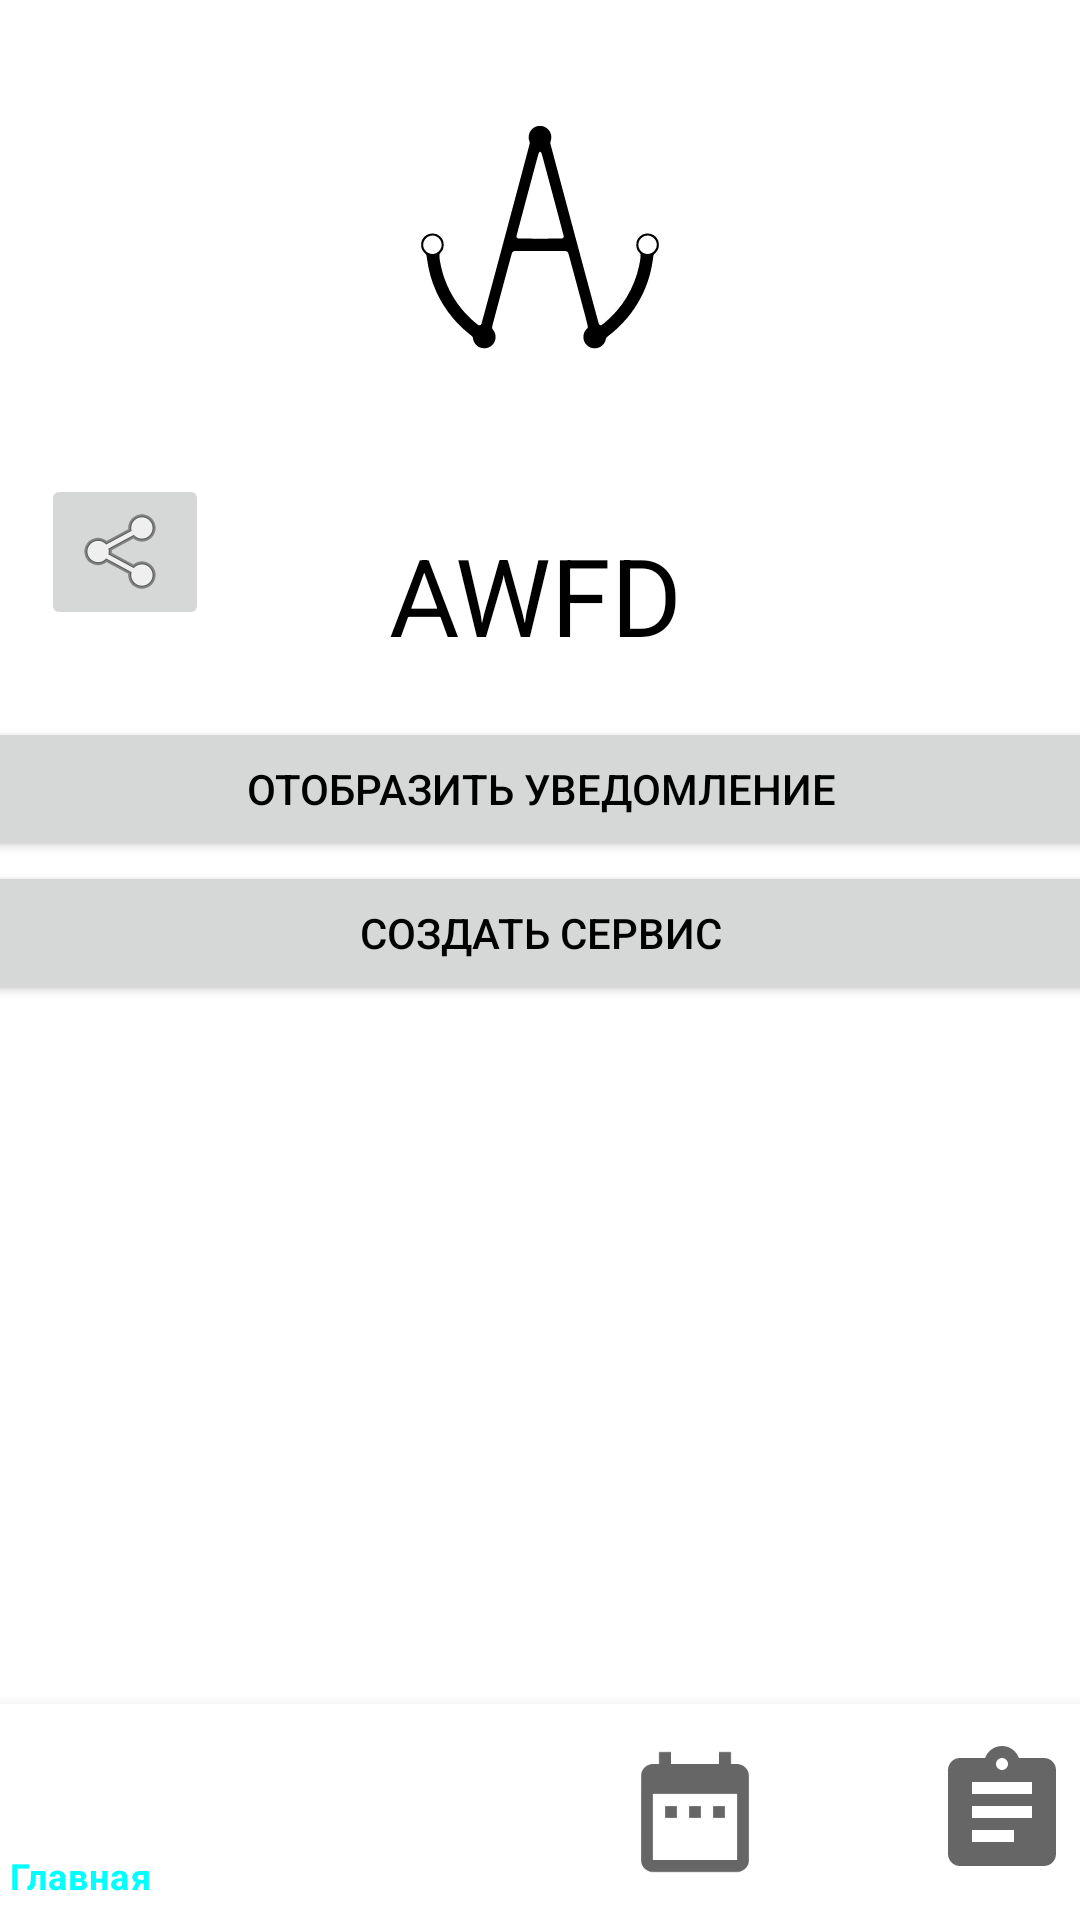

Screen size 1080px×1920px. Icon name, then its center in pixels as point (x, y):
Button to share: point (125, 552)
